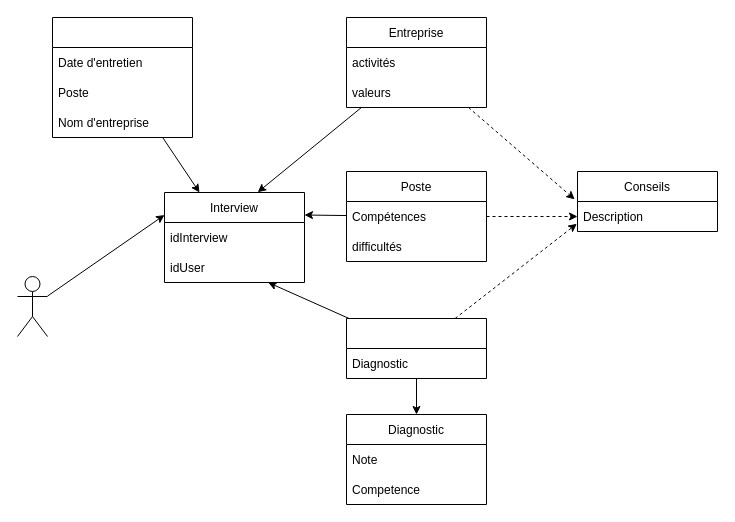
The diagram is 735 pixels wide and 522 high, and some of its shapes have lost their labels. Here are the shapes that lost their labels. From the top down, the box of each, then its label:
(52, 16, 192, 138): Fiche Entretien
(16, 276, 48, 336): Actor
(346, 318, 486, 378): Profil
